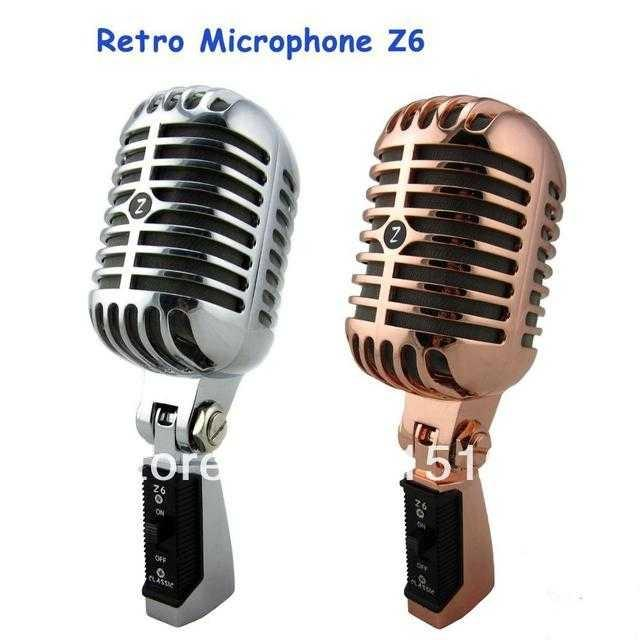microphone: (350, 103, 557, 623), (91, 90, 289, 619)
